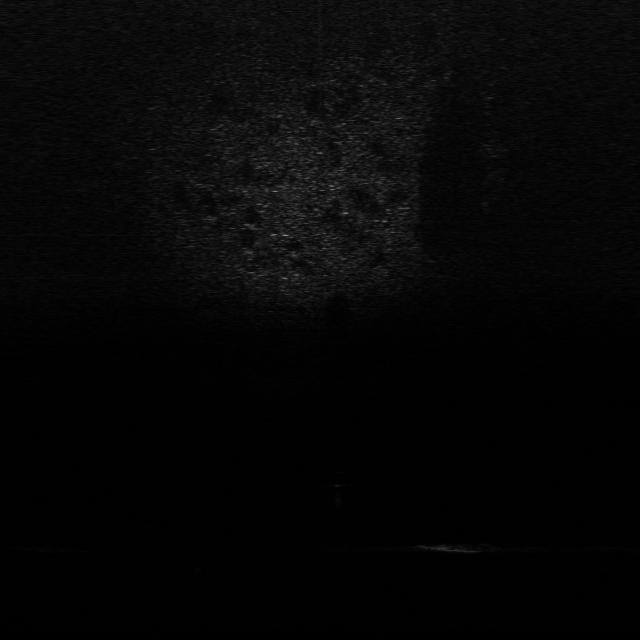ball: (324, 466, 354, 490)
metal bucket: (411, 532, 508, 560)
